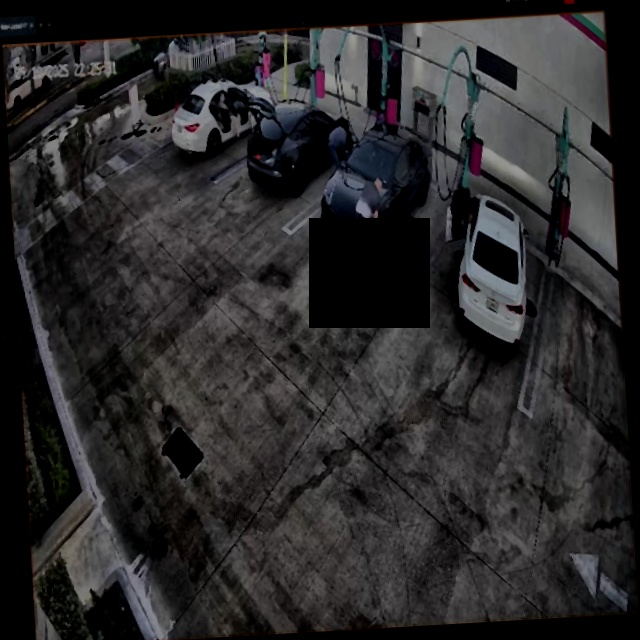Car: (317, 125, 436, 250), (446, 186, 535, 353), (243, 91, 355, 206), (170, 74, 280, 170)
